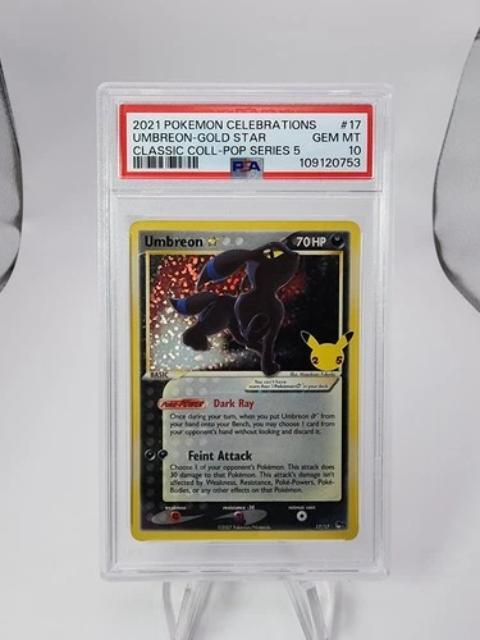Card: (125, 220, 362, 544)
Name: (140, 229, 227, 248)
